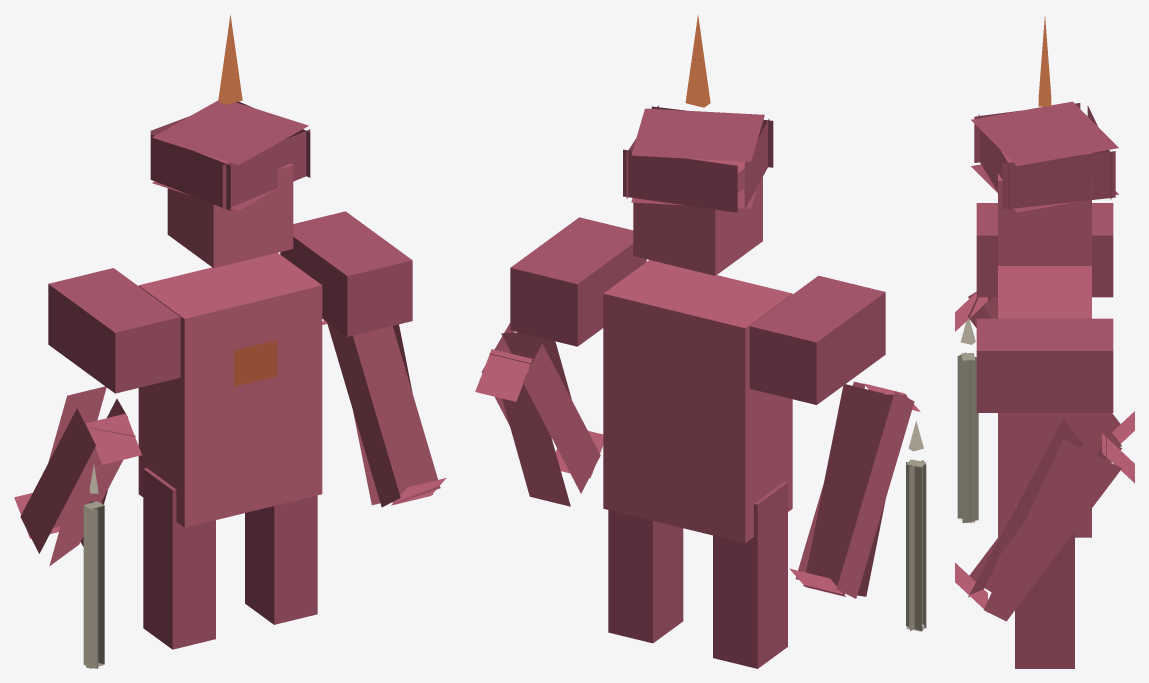
Rendered from takeda-05.glb.
The picture shows the model from 3 angles, left to right: view 1: azimuth 30°, elevation 25°; view 2: azimuth 150°, elevation 25°; view 3: azimuth 270°, elevation 25°; orthographic projection. The views are drawn at different scales.
Visible parts, largest first — view 1: samurai; view 2: samurai; view 3: samurai.
Boxes of the visible parts, <box> form: samurai: <box>14,14,446,668</box>; samurai: <box>475,15,926,668</box>; samurai: <box>955,16,1134,668</box>.
Bounding box in the file's own units: 0.9796 × 1.6 × 0.421.
